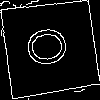O: (25, 24, 77, 69)
